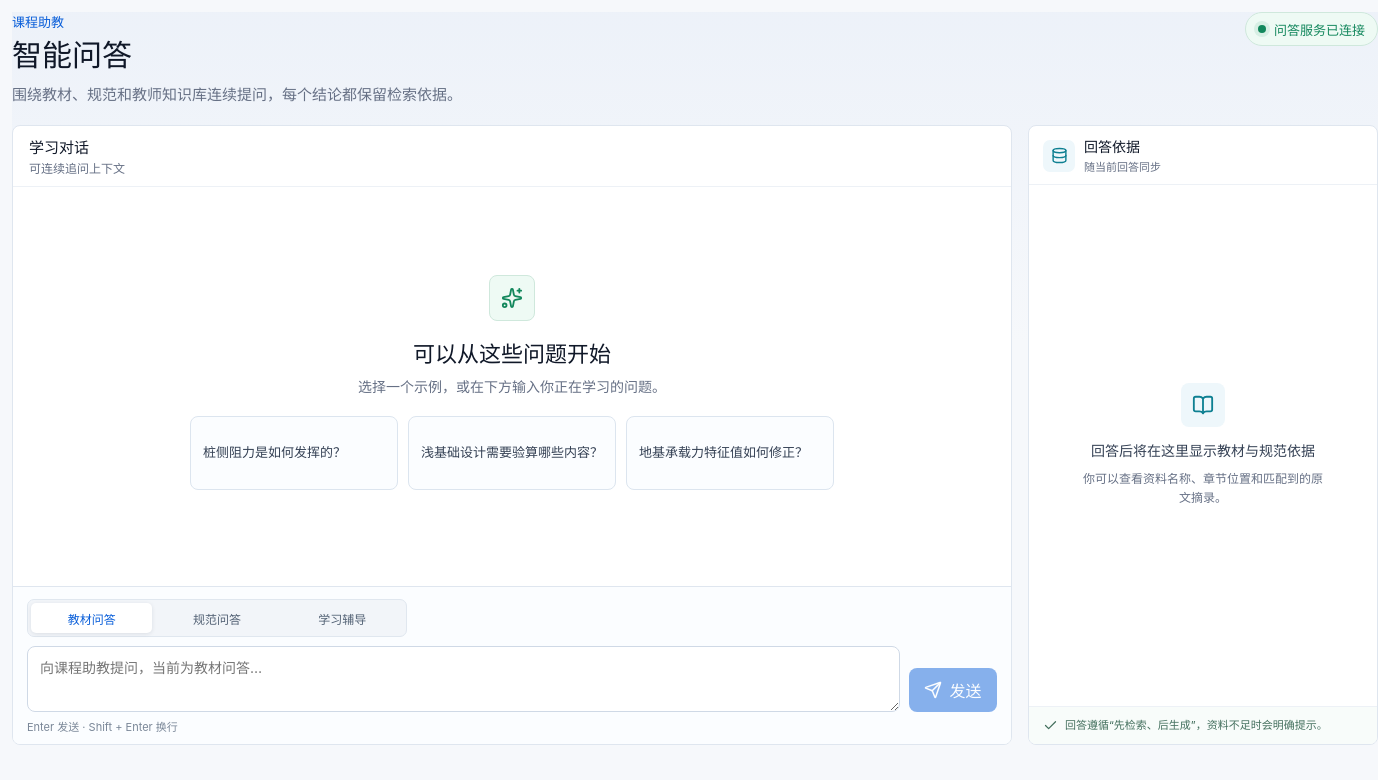
Scenario: QAWorkbench › sends contextual follow-up history and lets earlier answers restore their sources
This screenshot has width=1378, height=780.
In the text box named "输入问题": (464, 679) [27,646,900,712], type "桩侧阻力如何产生？"
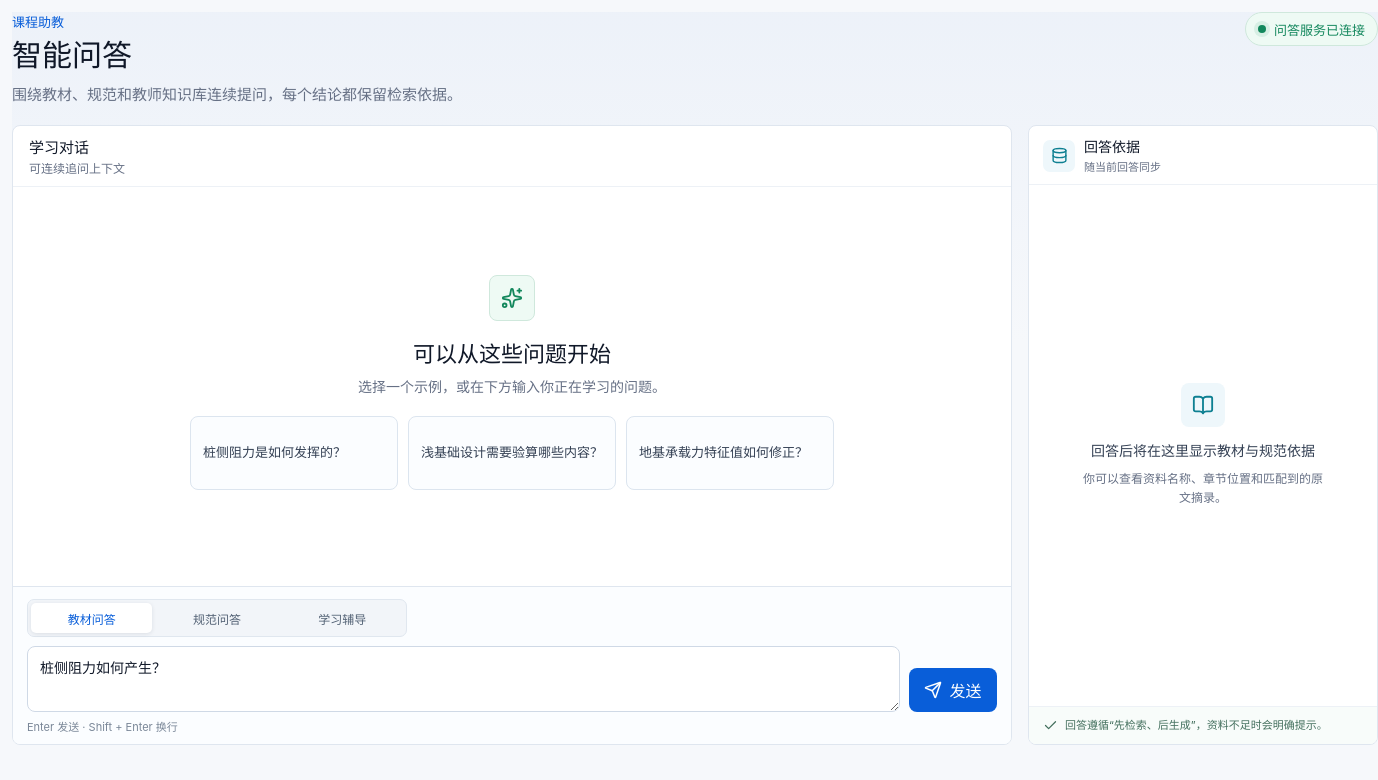
Click the button with aria-label "发送问题": click(953, 690) [909,668,997,712]
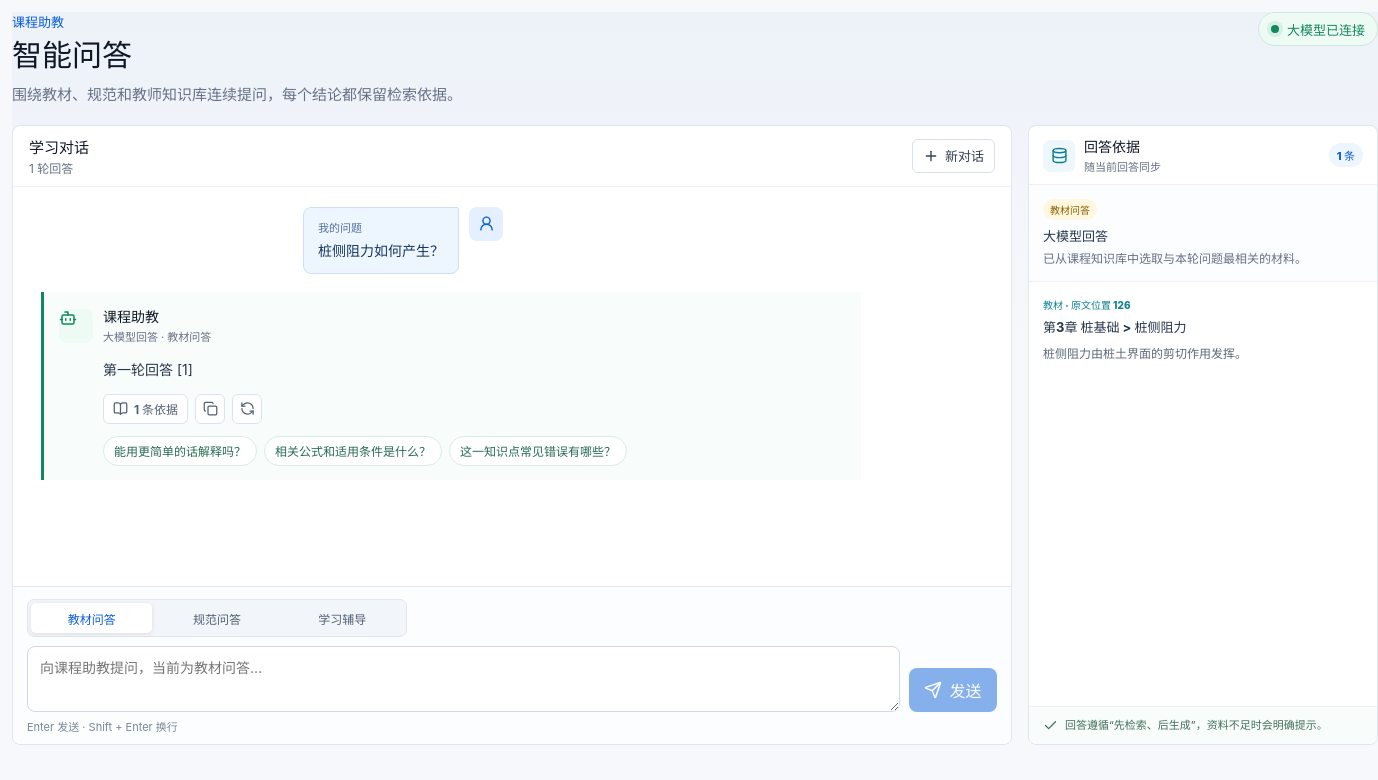
Check: the text "第一轮回答 [1]" is shown, box [103,361,193,378]
Check: the text "大模型已连接" is shown, box [1258,12,1377,46]
Check: the element "回答依据" shows "桩侧阻力由桩土界面的剪切作用发挥", box [1043,346,1247,361]
In the text box named "输入问题": (464, 679) [27,646,900,712], type "它受什么影响？"
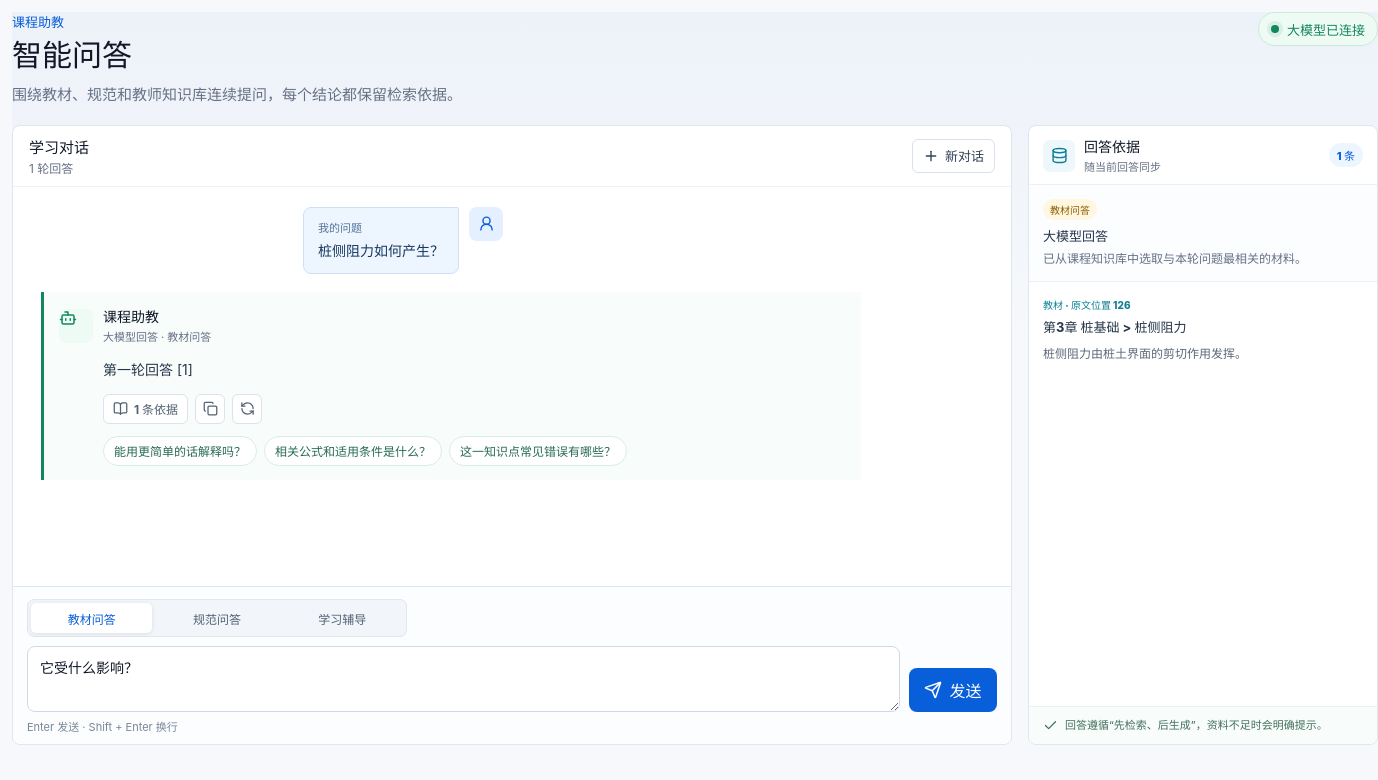
Click the button with aria-label "发送问题": click(953, 690) [909,668,997,712]
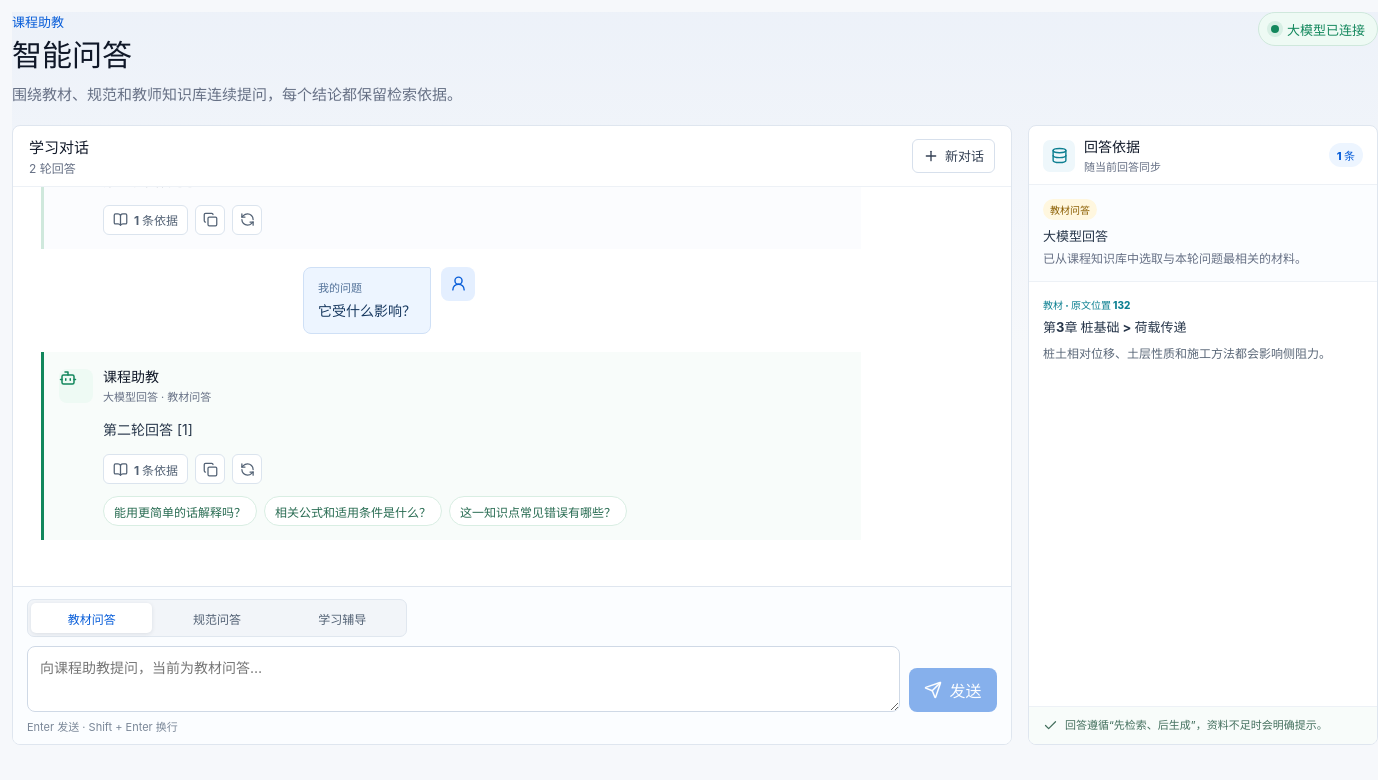
Check: the text "第二轮回答 [1]" is shown, box [103,421,193,438]
Check: the element "回答依据" shows "桩土相对位移", box [1043,346,1331,361]
Click the button with aria-label "查看此回答的 1 条依据": click(146, 220) [103,205,188,235]
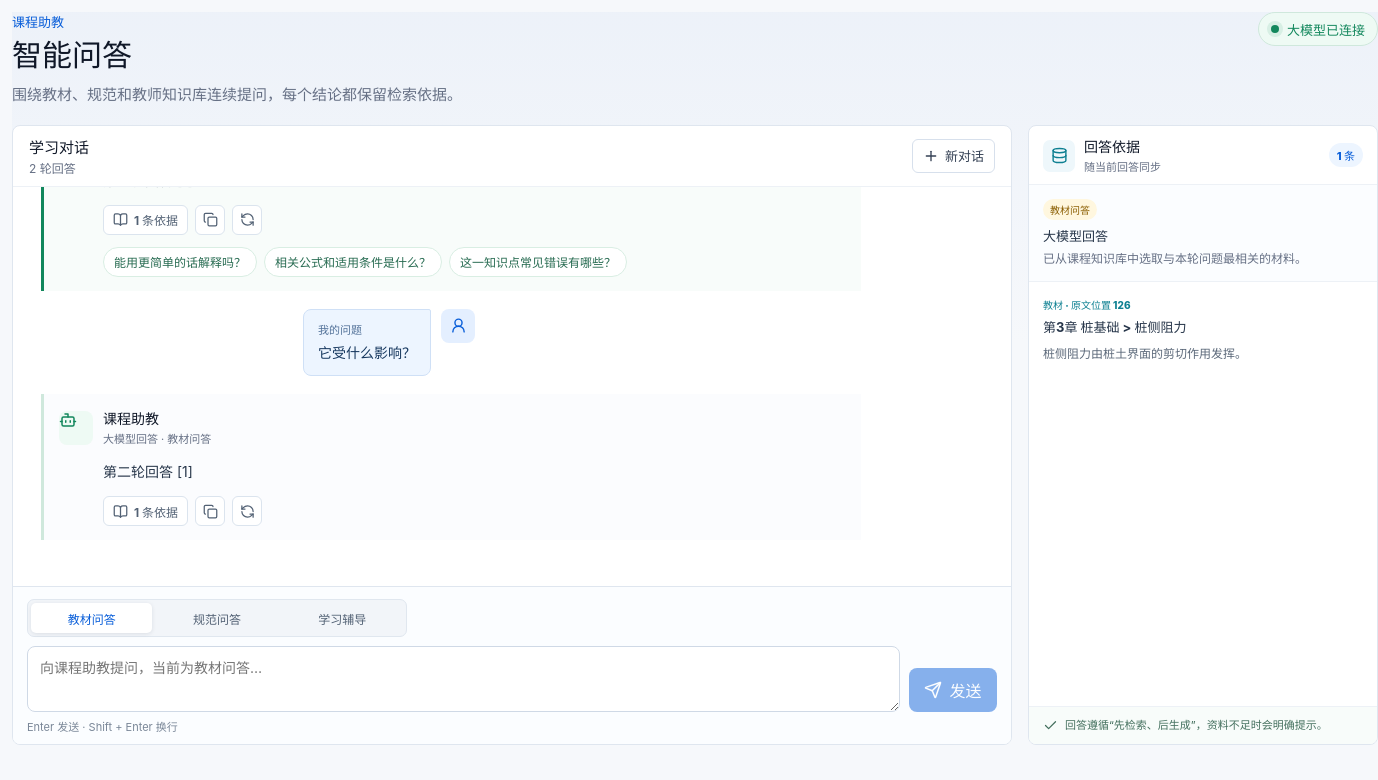
Check: the element "回答依据" shows "桩侧阻力由桩土界面的剪切作用发挥", box [1043,346,1247,361]
